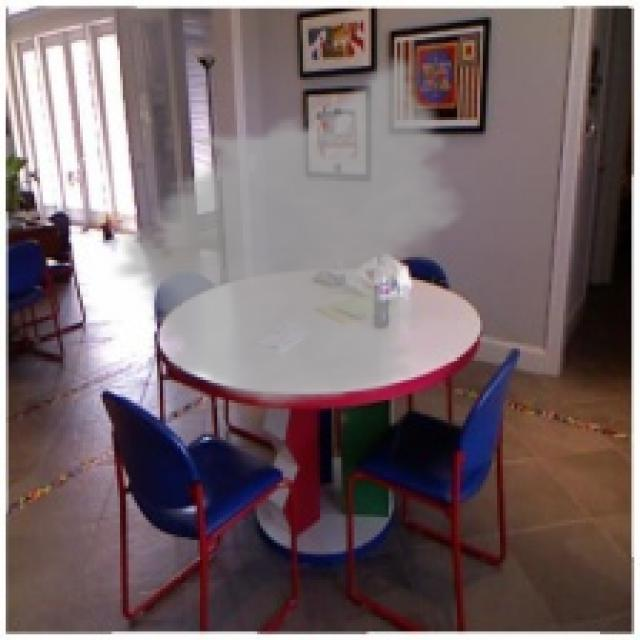smoke: (109, 54, 474, 412)
